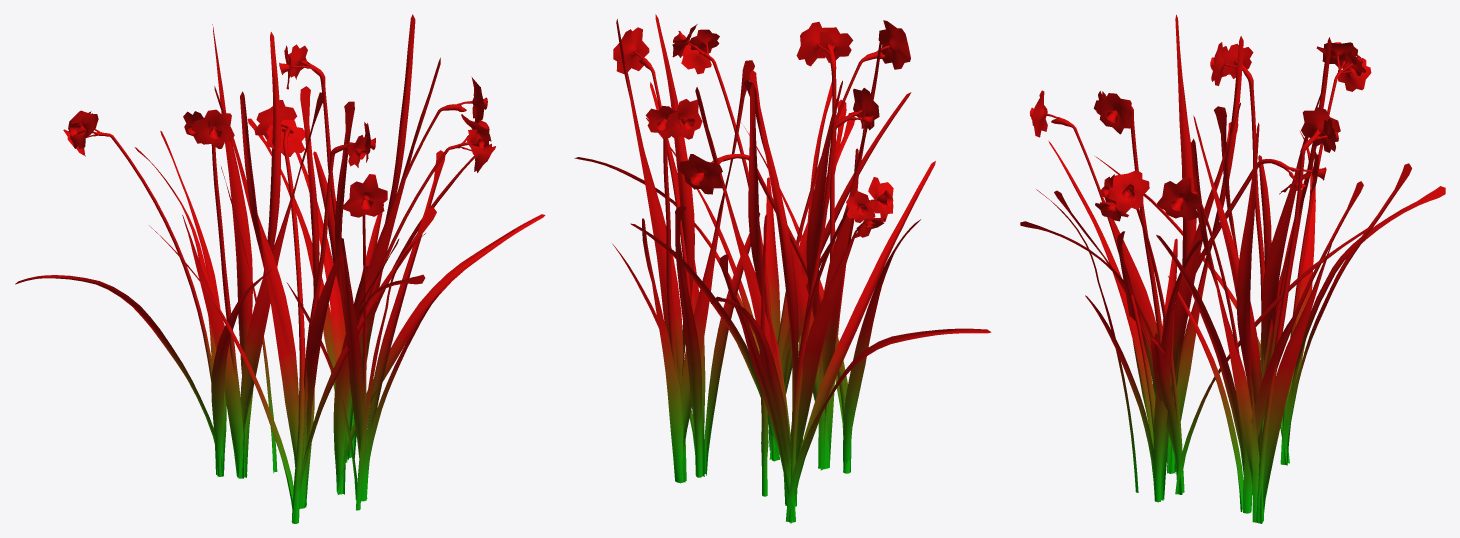
The model's file is Rush Daffodil_LOD0_Var12_wftgfjaia.fbx.
The picture shows the model from 3 angles, left to right: view 1: azimuth 30°, elevation 25°; view 2: azimuth 150°, elevation 25°; view 3: azimuth 270°, elevation 25°; orthographic projection. The views are drawn at different scales.
Visible parts, largest first — view 1: _pdlk_var12_LOD0; view 2: _pdlk_var12_LOD0; view 3: _pdlk_var12_LOD0.
Part boxes in pixels (x1,y1,x2,y2): _pdlk_var12_LOD0: (15, 14, 545, 523); _pdlk_var12_LOD0: (574, 14, 991, 523); _pdlk_var12_LOD0: (1020, 14, 1445, 523).
Bounding box in the file's own units: 45.09 × 40.25 × 35.51.
